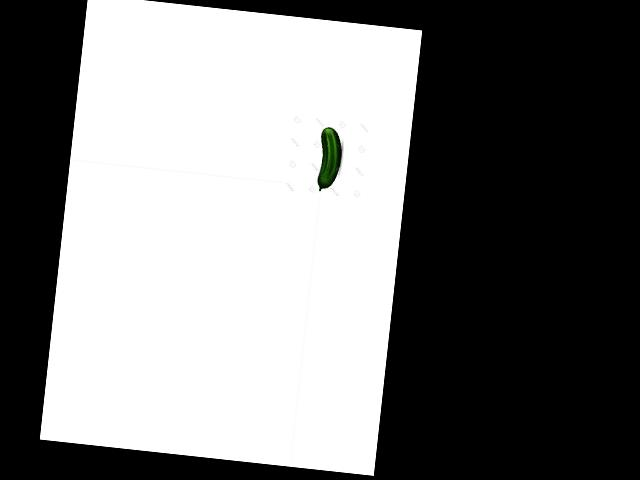cucumber: (315, 126, 344, 192)
